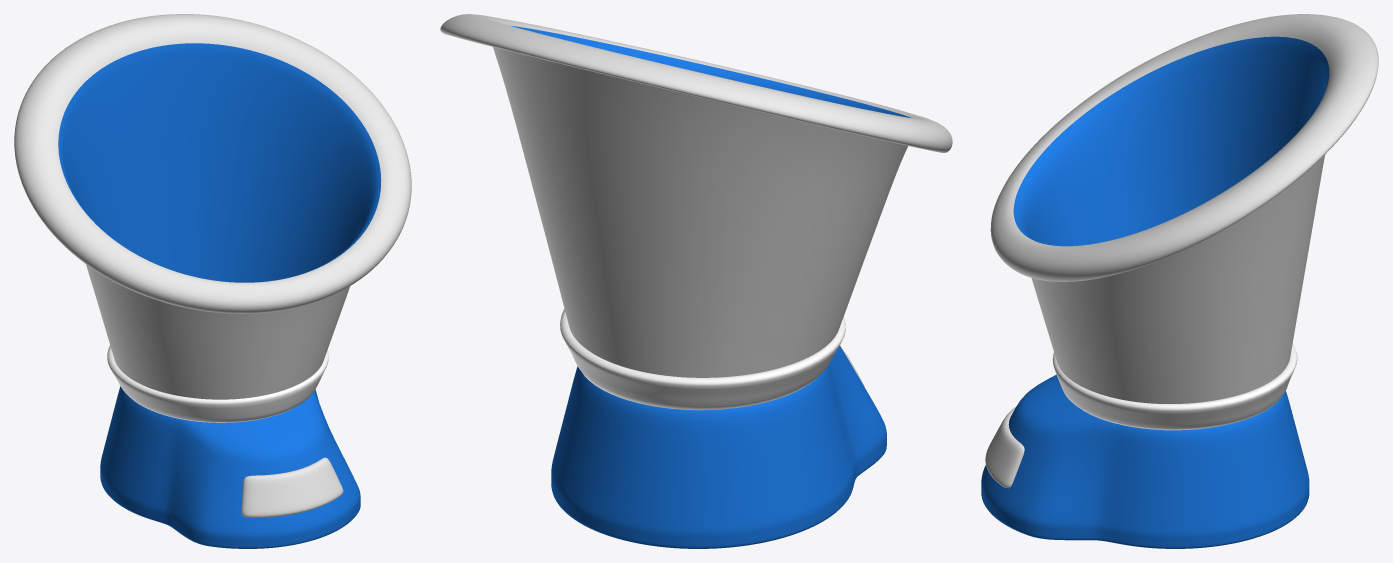
Rendered from facial-steamer-3d-animated-icon-1416980751952.glb.
The picture shows the model from 3 angles, left to right: view 1: azimuth 30°, elevation 25°; view 2: azimuth 150°, elevation 25°; view 3: azimuth 270°, elevation 25°; orthographic projection. The views are drawn at different scales.
Parts seen in each view (by area): view 1: Cylinder.020, Body, Cylinder.016, Cylinder.021; view 2: Cylinder.020, Body, Cylinder.016; view 3: Cylinder.020, Body, Cylinder.016, Cylinder.021.
Part boxes in pixels (x1,y1,x2,y2): Cylinder.020: [14, 14, 411, 399]; Body: [100, 386, 360, 548]; Cylinder.016: [107, 345, 328, 422]; Cylinder.021: [241, 457, 343, 517]; Cylinder.020: [440, 14, 952, 377]; Body: [551, 346, 886, 548]; Cylinder.016: [560, 309, 845, 410]; Cylinder.020: [990, 14, 1378, 403]; Body: [981, 374, 1309, 548]; Cylinder.016: [1052, 343, 1297, 430]; Cylinder.021: [985, 407, 1024, 488].
Size of the model in its own units: 3.57 by 3.79 by 3.1.
